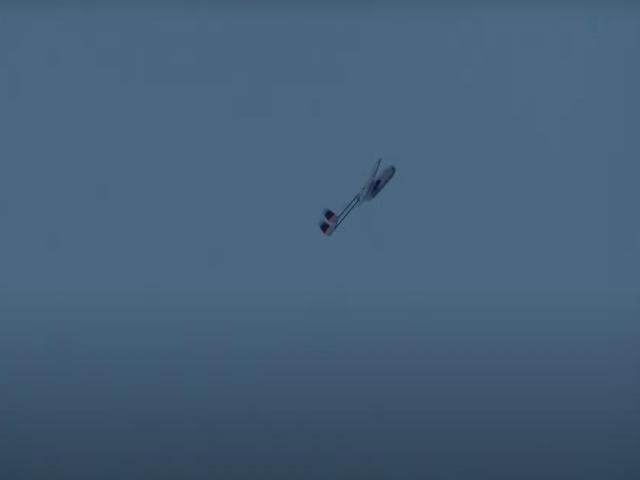iha: (320, 154, 401, 239)
